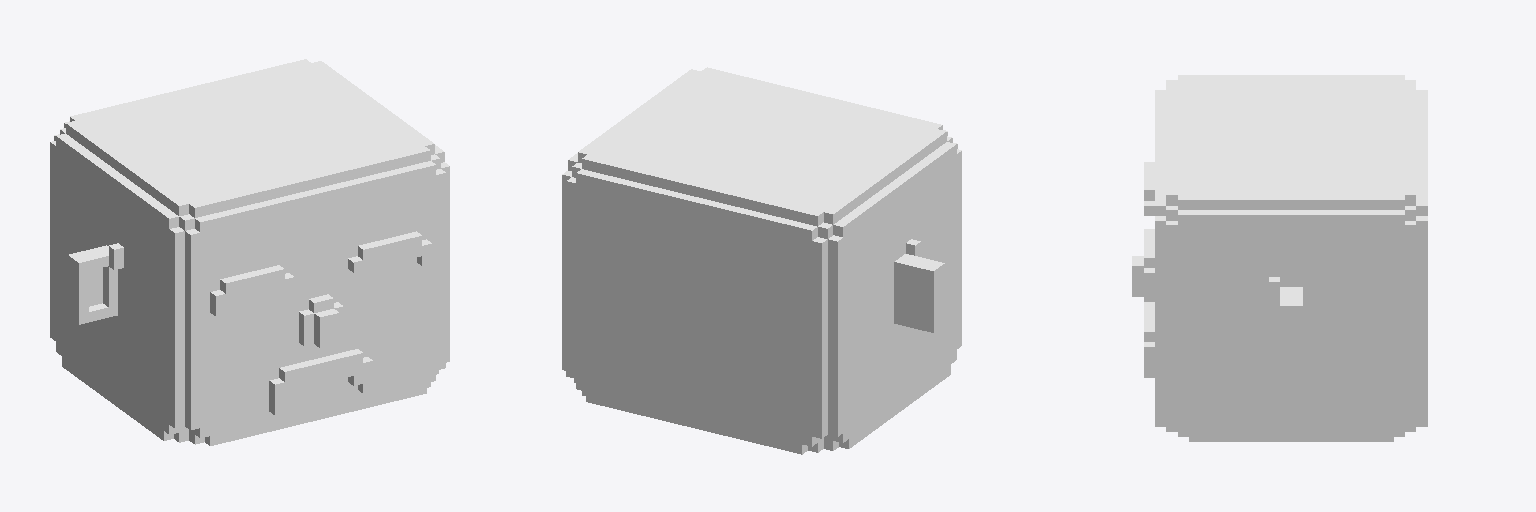
File: EliteGuard_Head.obj
3 views of the same model, side by side, from view 1: azimuth 30°, elevation 25°; view 2: azimuth 150°, elevation 25°; view 3: azimuth 270°, elevation 25° (orthographic).
Bounding box in the file's own units: 36 × 23 × 26.